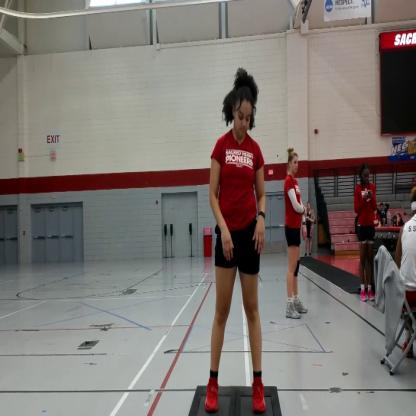lateral_flexion_normal: (204, 60, 268, 416)
stance_width_normal: (204, 126, 268, 416)
